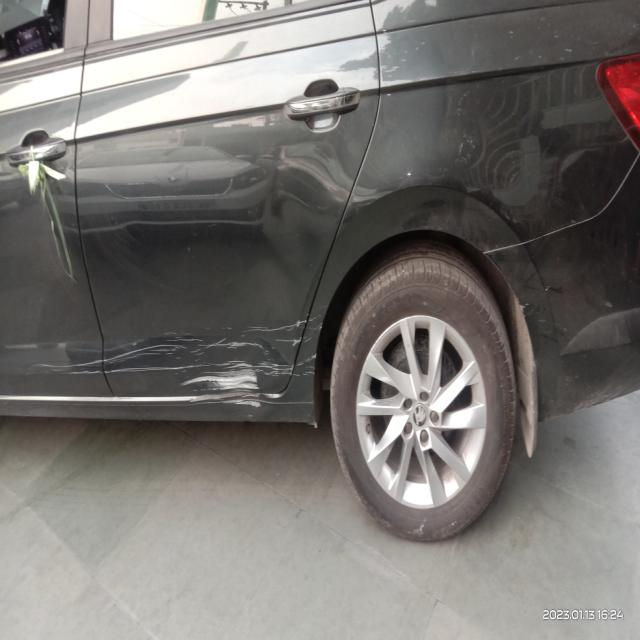damage: (106, 288, 307, 403), (19, 351, 107, 406), (294, 287, 335, 395)
